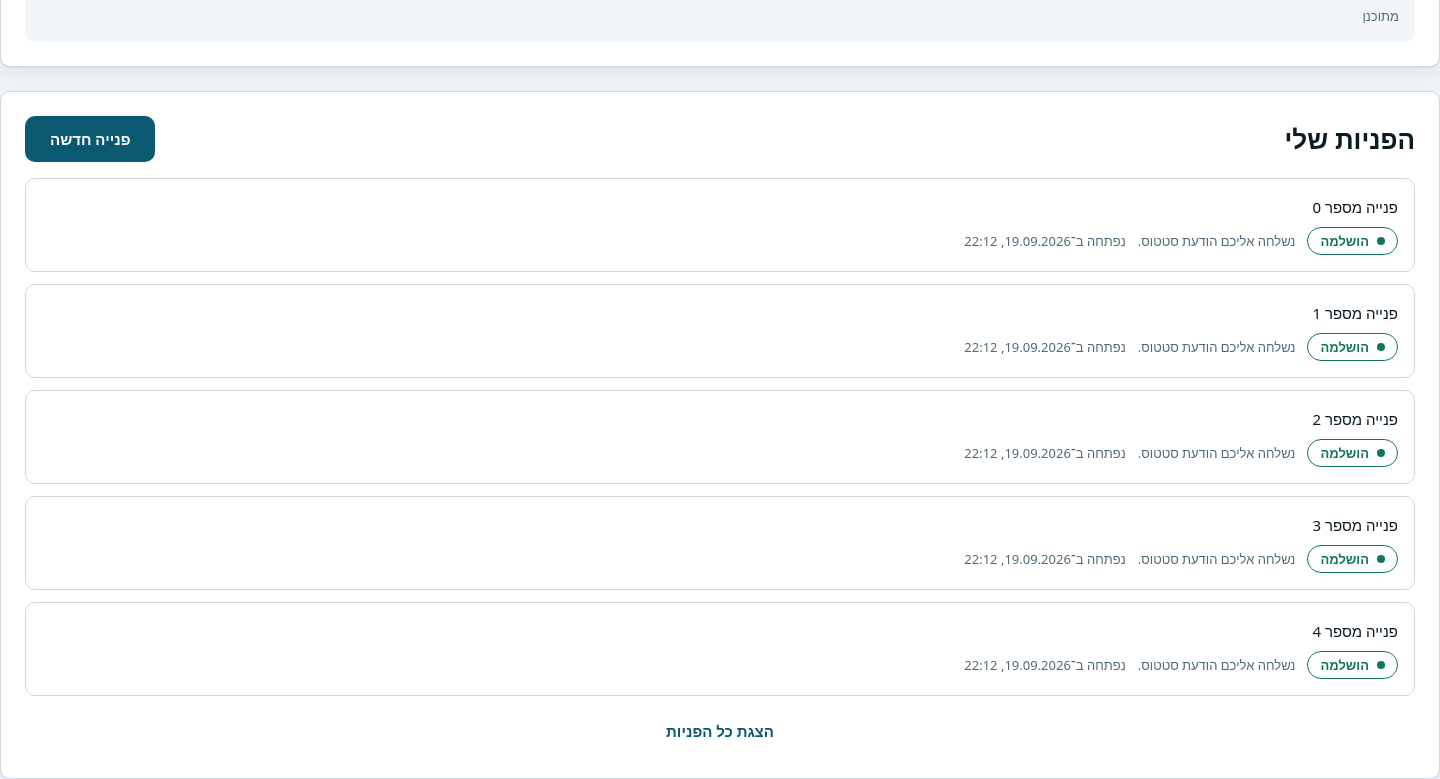
Test: only the newest five at first › loads every request when asked
(page scrolled)
Click the button "הצגת כל הפניות". click: (720, 731)
box: [641,708,799,754]
(page scrolled)
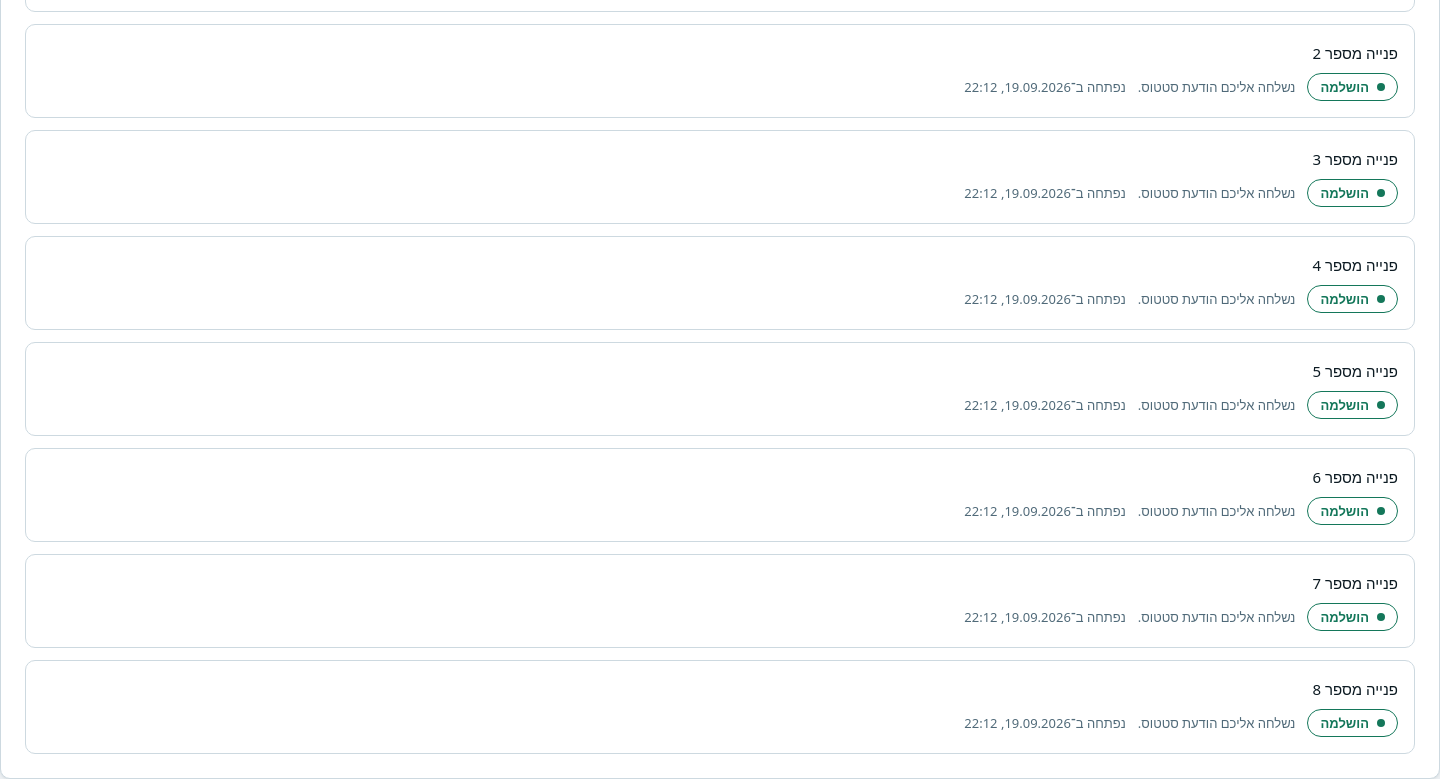
expect the text "פנייה מספר 8" is shown: met, box [1312,679,1398,699]
expect the button "הצגת כל הפניות" is gone: met
